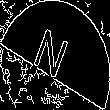N_SW: (33, 24, 77, 86)
